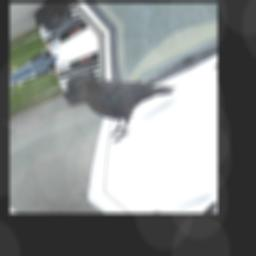Crow: (73, 40, 185, 151)
